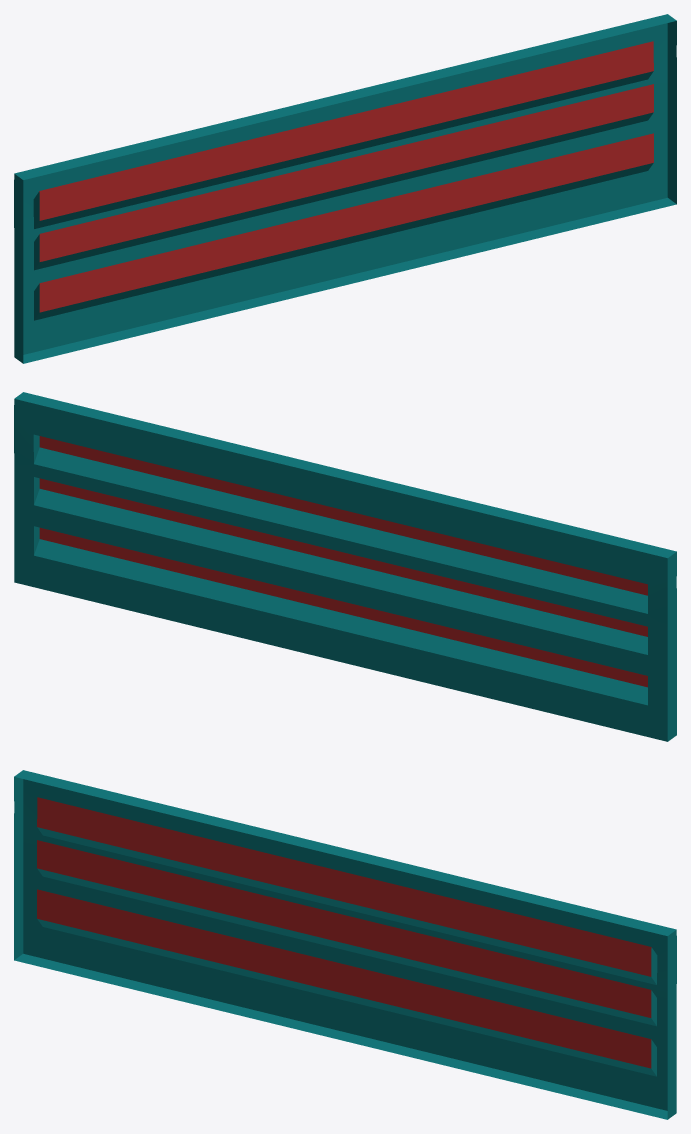
The model's file is SM_Vents_Short.fbx.
The picture shows the model from 3 angles, top to bottom: view 1: azimuth 30°, elevation 25°; view 2: azimuth 150°, elevation 25°; view 3: azimuth 330°, elevation 25°; orthographic projection.
Parts seen in each view (by area): view 1: SM_Vents_Short; view 2: SM_Vents_Short; view 3: SM_Vents_Short.
Boxes of the visible parts, box(x1,y1,x2,y2) form: SM_Vents_Short: box(14, 14, 676, 363); SM_Vents_Short: box(14, 392, 676, 741); SM_Vents_Short: box(14, 770, 676, 1119).
Bounding box in the file's own units: 49.35 × 13.25 × 1.23.
